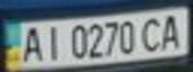0: (118, 17, 142, 55), (66, 21, 87, 60)
2: (84, 20, 106, 58)
7: (103, 18, 121, 56)
A: (157, 11, 187, 51), (18, 24, 45, 63)
C: (136, 15, 166, 53)
I: (39, 22, 66, 61)
